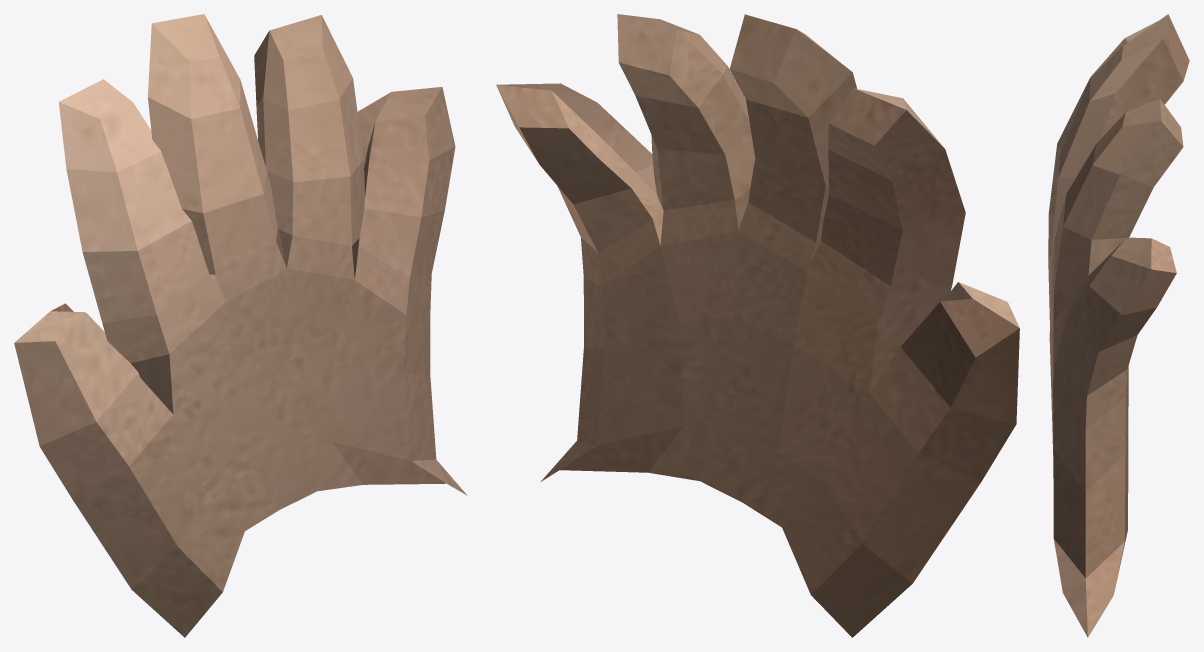
The model's file is Hand.fbx.
3 views of the same model, side by side, from view 1: azimuth 30°, elevation 25°; view 2: azimuth 150°, elevation 25°; view 3: azimuth 270°, elevation 25° (orthographic). The views are drawn at different scales.
Parts seen in each view (by area): view 1: Cube; view 2: Cube; view 3: Cube.
Part boxes in pixels (left/top/right/bottom): Cube: left=14, top=14, right=467, bottom=637; Cube: left=496, top=14, right=1019, bottom=637; Cube: left=1048, top=14, right=1189, bottom=637.
Size of the model in its own units: 364 by 448 by 102.
Materials: 1 (1 with a texture image).
